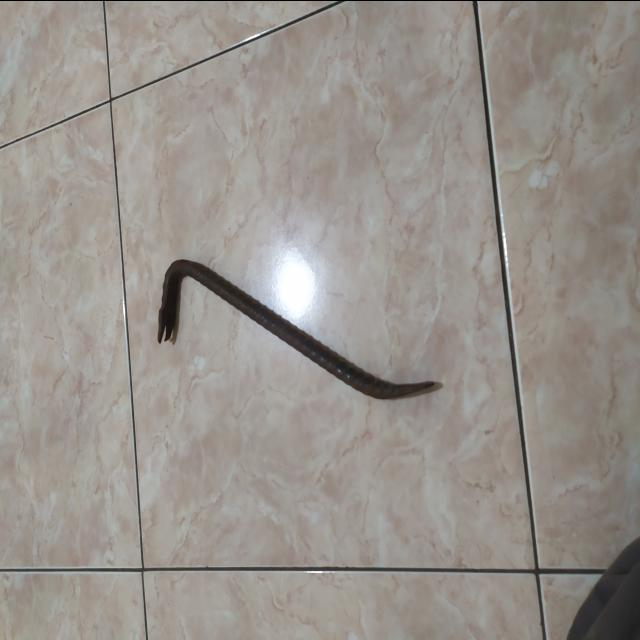Linggis: (153, 257, 441, 407)
